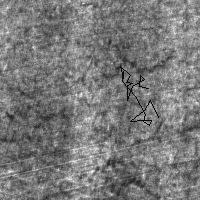crazing: (72, 28, 189, 87), (1, 86, 69, 185), (86, 135, 191, 198), (120, 66, 158, 125)
